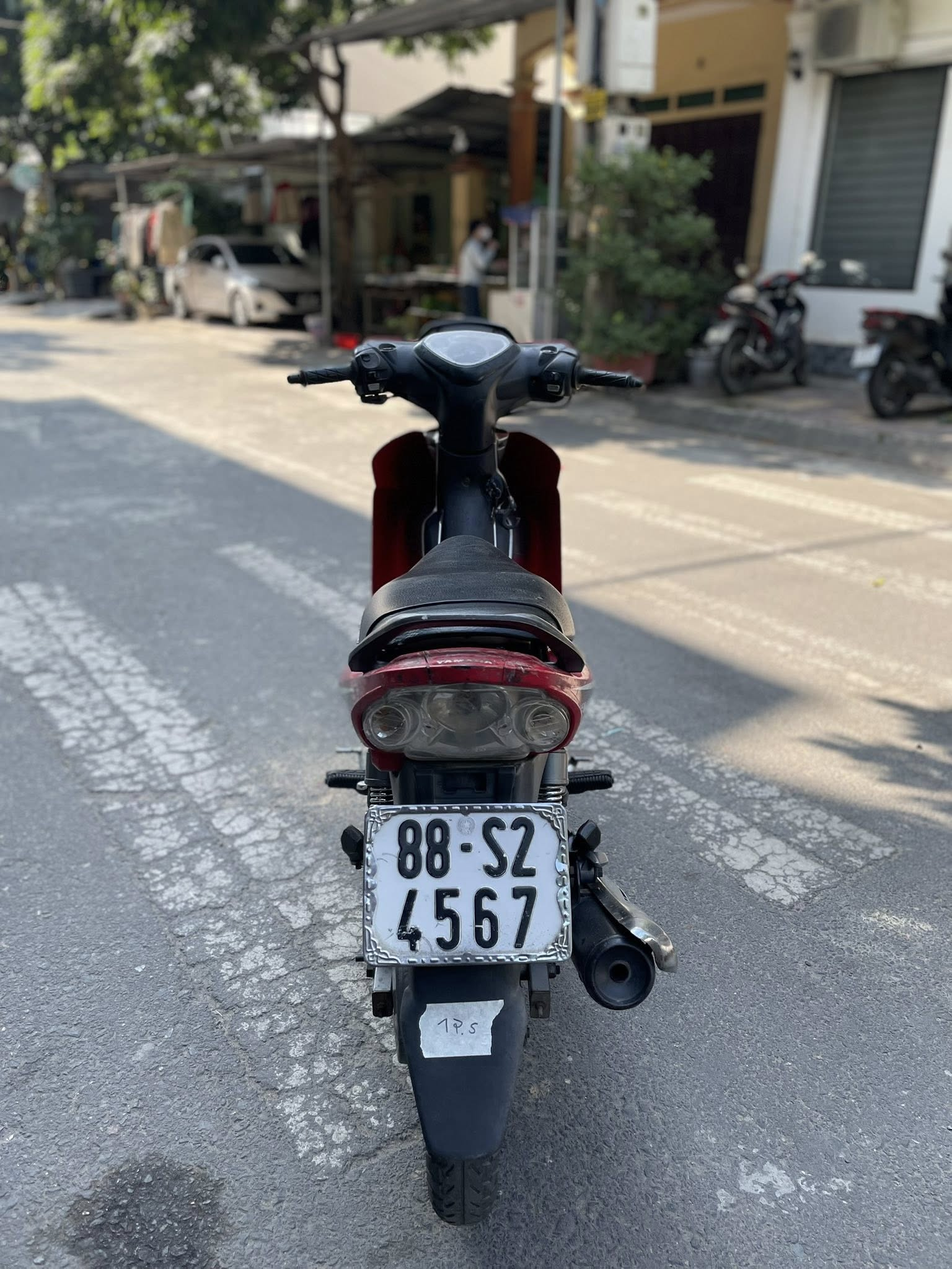bien_so: (361, 793, 583, 979)
